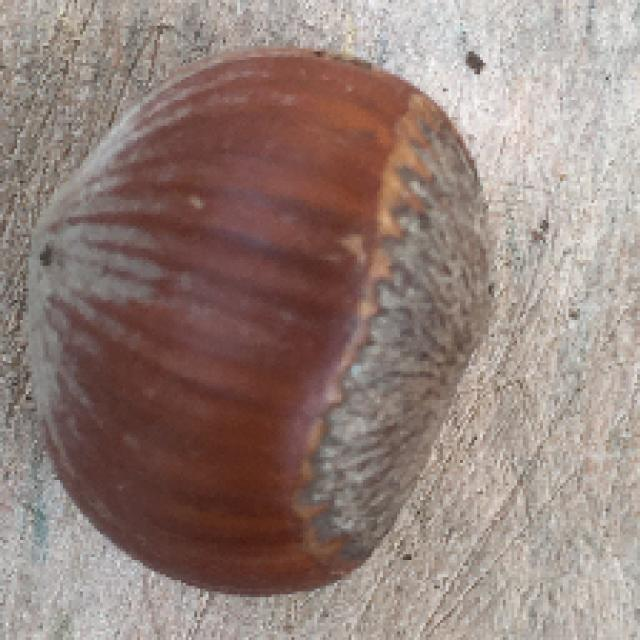damagedHazelnut: (17, 48, 504, 602)
